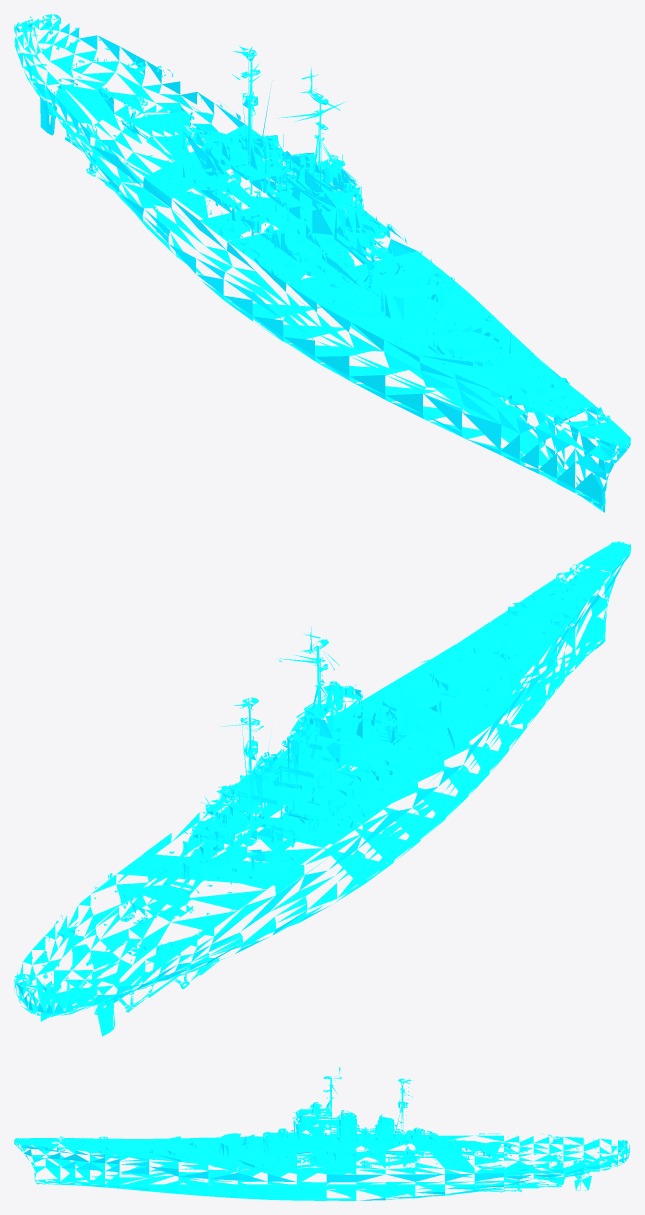
The model's file is Sovetskaya_Rossiya.glb.
3 views of the same model, one above another, from view 1: azimuth 30°, elevation 25°; view 2: azimuth 150°, elevation 25°; view 3: azimuth 270°, elevation 25° (orthographic). The views are drawn at different scales.
Bounding box in the file's own units: 2.69 × 4.16 × 19.47.
